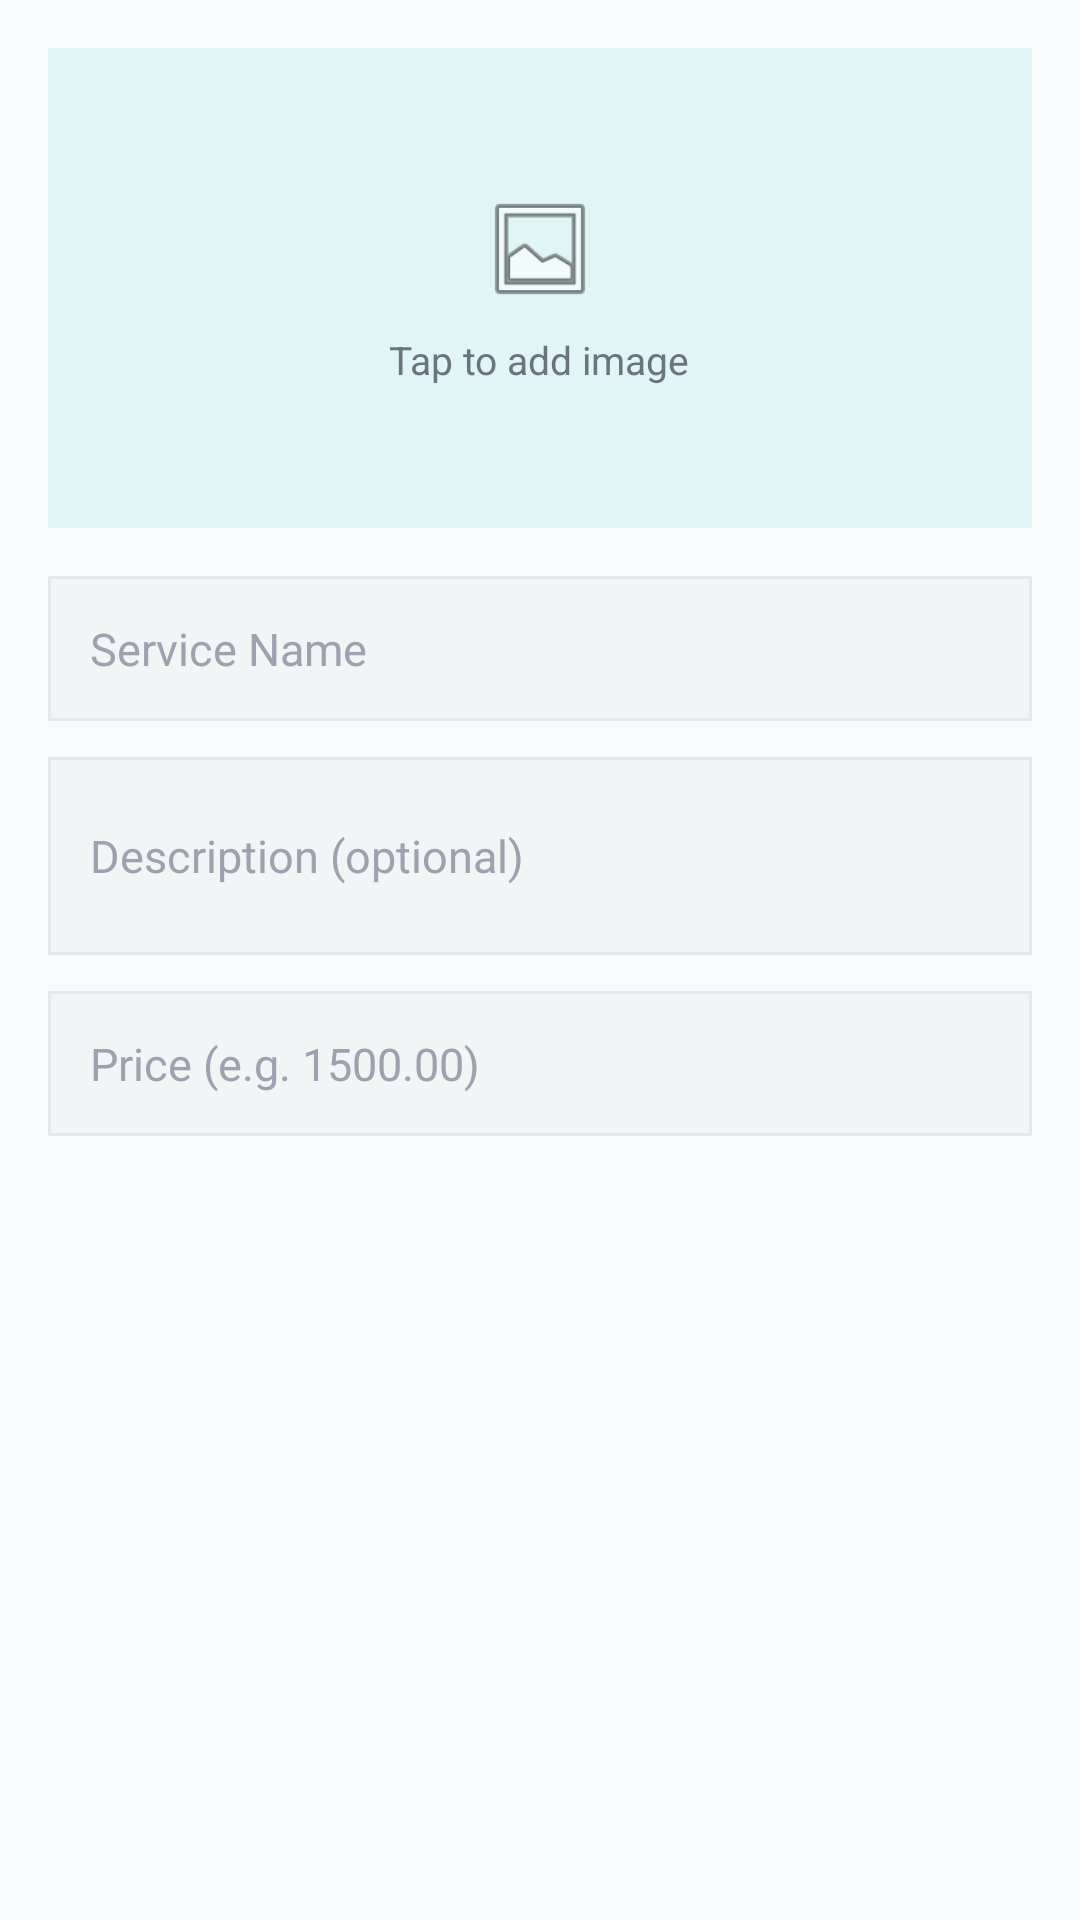

Named icons in this screenshot (1080px x 1920px) and their centers, (x,y):
gallery: (540,249)
